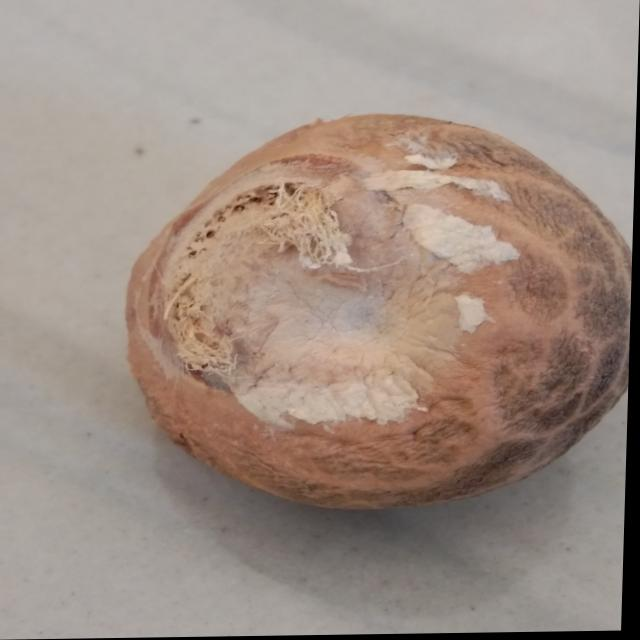phatora: (97, 93, 637, 541)
